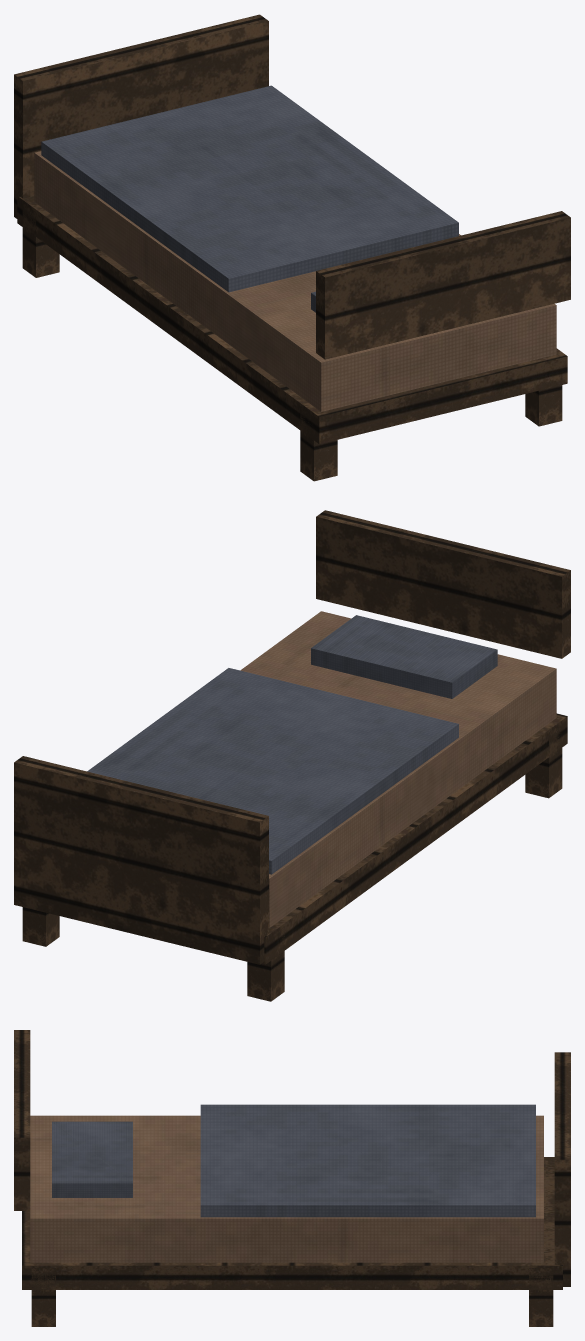
The model's file is prop.bed.glb.
3 views of the same model, one above another, from view 1: azimuth 30°, elevation 25°; view 2: azimuth 150°, elevation 25°; view 3: azimuth 270°, elevation 25° (orthographic). The views are drawn at different scales.
Visible parts, largest first — view 1: prop.bed; view 2: prop.bed; view 3: prop.bed.
Part boxes in pixels (x1,y1,x2,y2): prop.bed: (14,14,570,481); prop.bed: (14,510,570,1001); prop.bed: (14,1030,570,1326).
Size of the model in its own units: 0.95 by 0.77 by 2.06.
3 materials, 3 textured.
